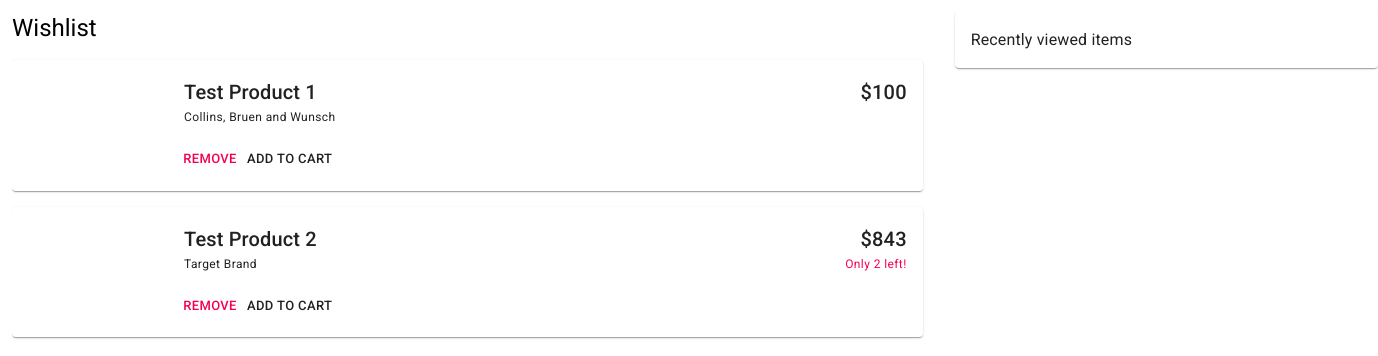
Test: Wishlist tests › After fetch › Clicking on add to cart removes the wishlist item completely
Click the button "Add to Cart" below "Collins, Bruen and Wunsch". click: (290, 159)
box: [242,144,337,175]
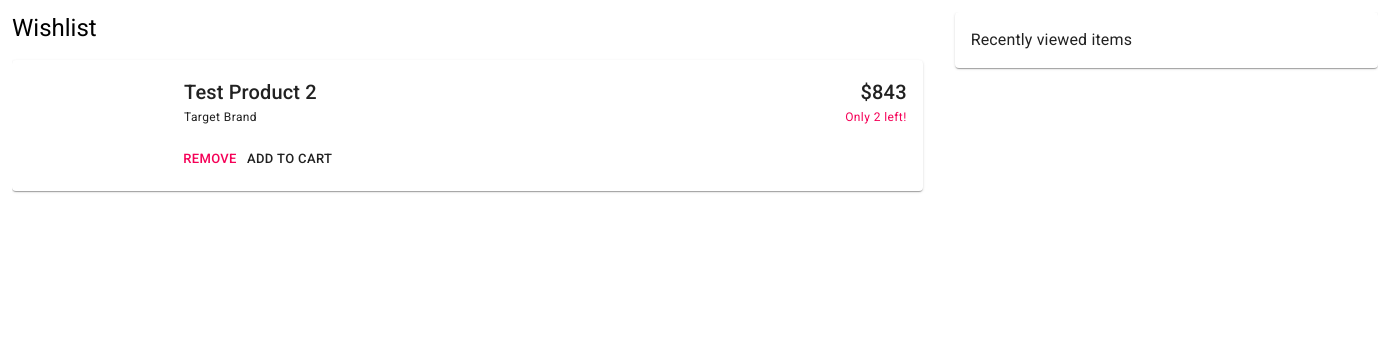
expect the number of elements with test id "wishlist-item" is 1: met, box [12,60,923,191]
